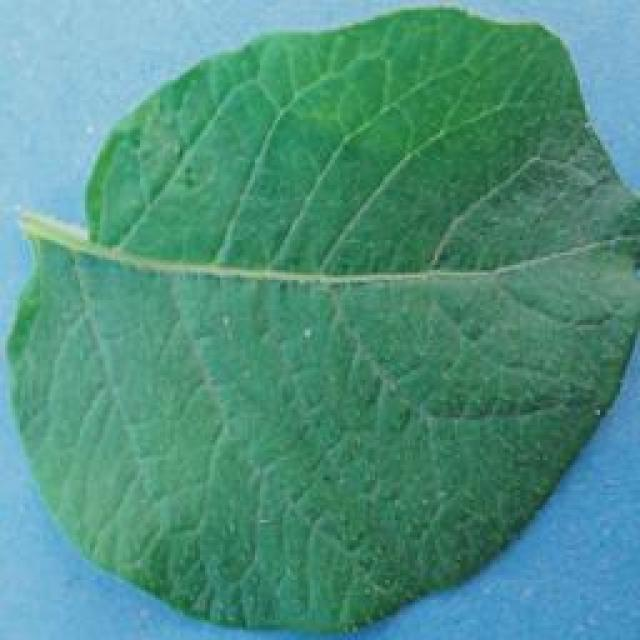Potato_Healthy: (1, 8, 632, 634)
